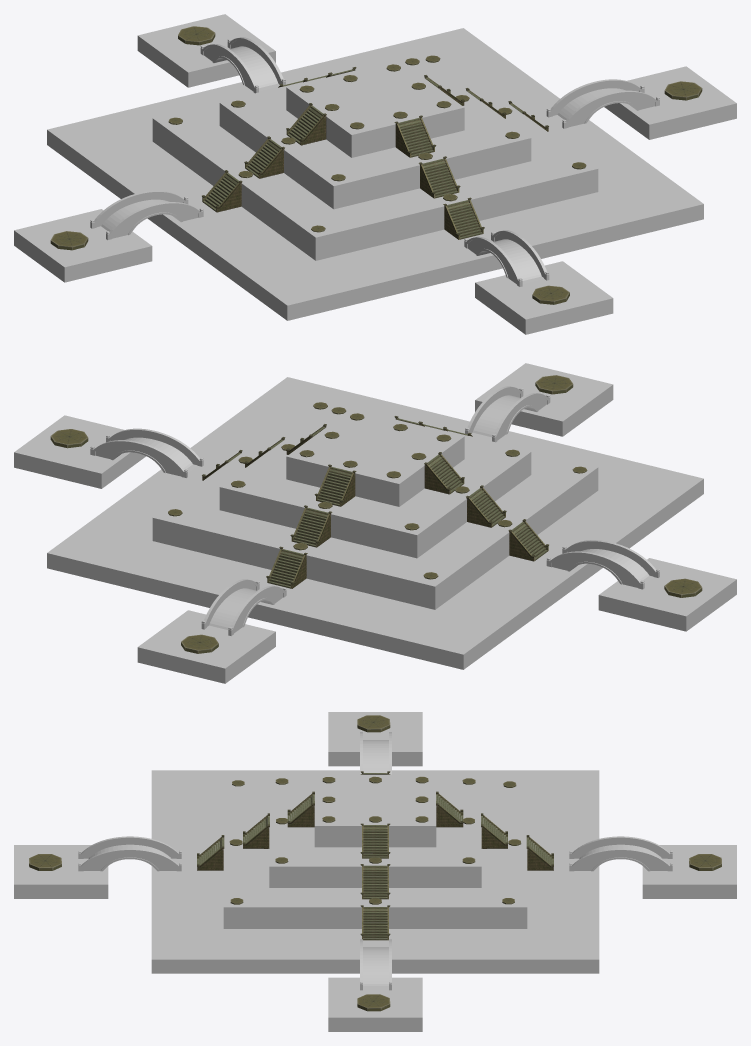
The model's file is temple_31_Aug_2016.fbx.
3 views of the same model, one above another, from view 1: azimuth 30°, elevation 25°; view 2: azimuth 150°, elevation 25°; view 3: azimuth 270°, elevation 25° (orthographic). The views are drawn at different scales.
Parts seen in each view (by area): view 1: full_temple_30_Aug_2016:temple_1:pPlane1, pCube1, pCube3 (×2), pCube2 (×2), group1_pCube8 (×2), group1_pCube7 (×2), pPlane14 (×2), pPlane12 (×2), pPlane13 (×2), pCylinder3 (×2), pCylinder4, full_temple_30_Aug_2016:pCylinder3; view 2: full_temple_30_Aug_2016:temple_1:pPlane1, pCube1, pCube2 (×2), pCube3 (×2), group1_pCube7 (×2), group1_pCube8 (×2), pPlane14 (×2), pPlane12 (×2), pPlane13 (×2), pCylinder3 (×2), full_temple_30_Aug_2016:pCylinder3, pCylinder4; view 3: pCube1, full_temple_30_Aug_2016:temple_1:pPlane1, pCube2 (×2), pCube3 (×2), group1_pCube7 (×2), group1_pCube8 (×2), pPlane14 (×3), pPlane12 (×3), pPlane13 (×3).
Boxes of the visible parts, x1,y1,x2,y2 form: full_temple_30_Aug_2016:temple_1:pPlane1: (152,49,598,260); pCube1: (47,28,703,320); pCube3 (×2): (14,209,613,334); pCube2 (×2): (137,14,736,139); group1_pCube8 (×2): (90,190,549,286); group1_pCube7 (×2): (200,37,659,128); pPlane14 (×2): (286,103,436,157); pPlane12 (×2): (202,170,484,239); pPlane13 (×2): (244,136,460,198); pCylinder3 (×2): (50,26,215,250); pCylinder4: (664,81,702,100); full_temple_30_Aug_2016:pCylinder3: (532,285,569,304); full_temple_30_Aug_2016:temple_1:pPlane1: (152,398,598,609); pCube1: (47,377,703,669); pCube2 (×2): (14,415,275,683); pCube3 (×2): (475,363,736,631); group1_pCube7 (×2): (90,428,286,635); group1_pCube8 (×2): (465,386,659,589); pPlane14 (×2): (314,452,464,506); pPlane12 (×2): (266,519,548,588); pPlane13 (×2): (290,485,506,547); pCylinder3 (×2): (181,578,702,653); full_temple_30_Aug_2016:pCylinder3: (535,375,573,394); pCylinder4: (50,429,88,448); pCube1: (151,770,599,973); full_temple_30_Aug_2016:temple_1:pPlane1: (223,774,527,928); pCube2 (×2): (328,845,736,1031); pCube3 (×2): (14,712,422,898); group1_pCube7 (×2): (360,836,672,990); group1_pCube8 (×2): (78,732,391,871); pPlane14 (×3): (287,791,463,858); pPlane12 (×3): (197,835,553,940); pPlane13 (×3): (243,813,507,899).
Bounding box in the file's own units: 23 × 3.6 × 23.
